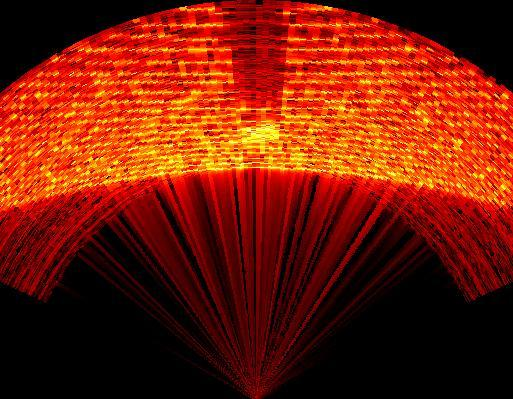box_crate: (223, 2, 290, 142)
